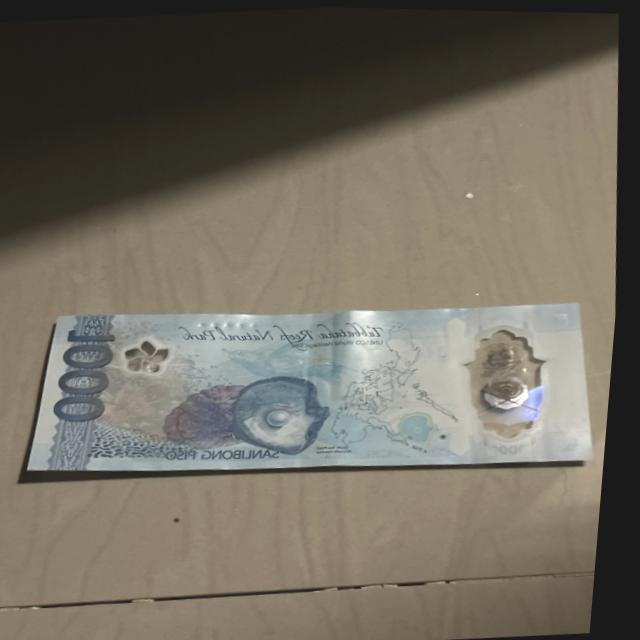clear_window: (460, 321, 559, 432)
sampaguita: (128, 334, 176, 374)
